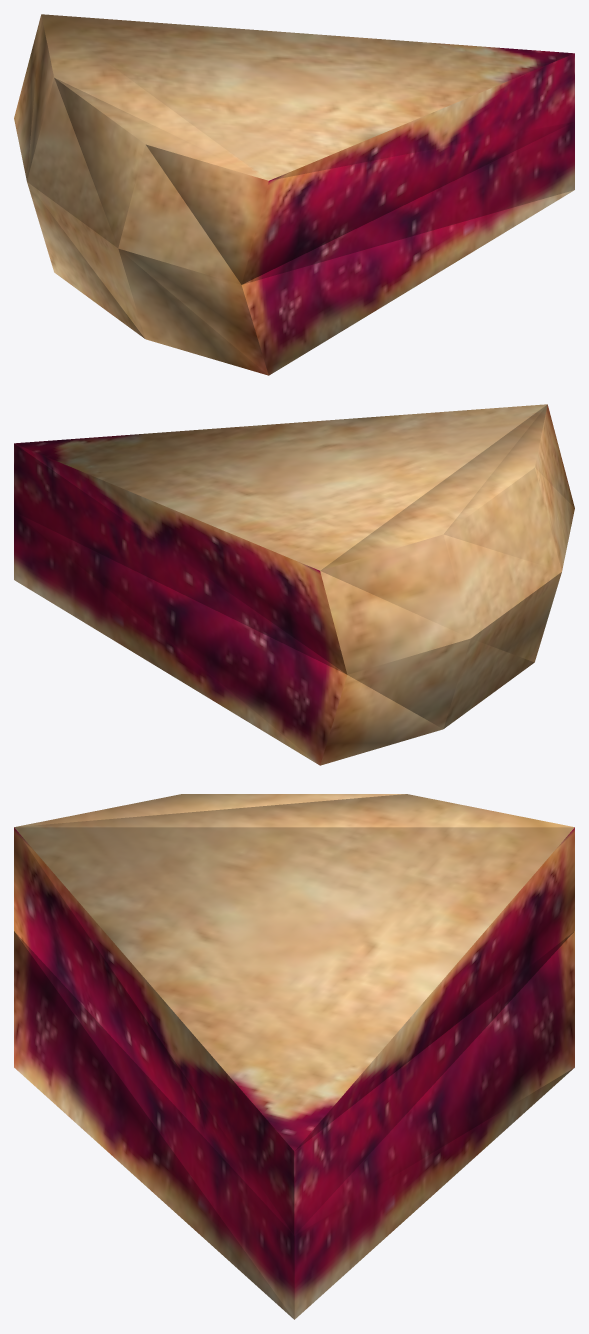
The model's file is bolo.glb.
The picture shows the model from 3 angles, top to bottom: view 1: azimuth 30°, elevation 25°; view 2: azimuth 150°, elevation 25°; view 3: azimuth 270°, elevation 25°; orthographic projection. The views are drawn at different scales.
Visible parts, largest first — view 1: bolo; view 2: bolo; view 3: bolo.
Boxes of the visible parts, box(x1,y1,x2,y2) form: bolo: box(14, 14, 574, 375); bolo: box(14, 404, 574, 765); bolo: box(14, 794, 574, 1319).
Size of the model in its own units: 0.3777 by 0.14 by 0.2963.
Materials: 1 (1 with a texture image).
